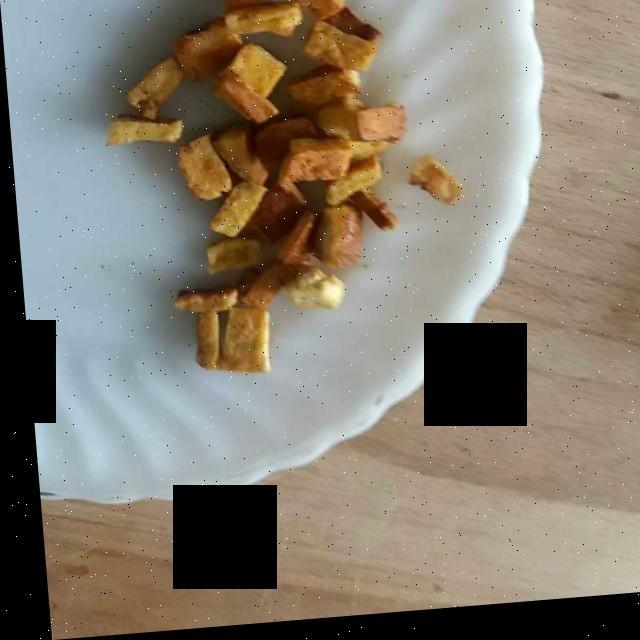tofu: (103, 0, 468, 385)
